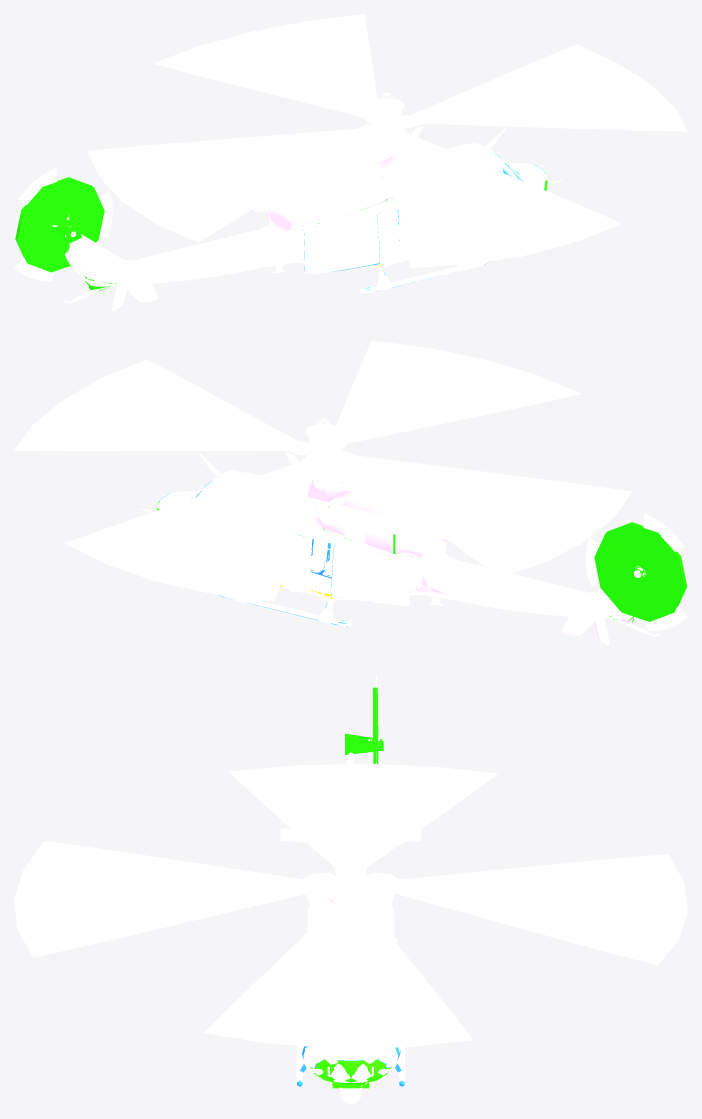
3 views of the same model, one above another, from view 1: azimuth 30°, elevation 25°; view 2: azimuth 150°, elevation 25°; view 3: azimuth 270°, elevation 25° (orthographic). The views are drawn at different scales.
Parts seen in each view (by area): view 1: Heli6_8, Heli6_3, Heli6_2, UH1Y_TailEngine_Col_104, Heli6_6, UH1Y_Col, Heli6_4, Heli6_7; view 2: Heli6_8, Heli6_3, Heli6_2, UH1Y_TailEngine_Col_104, UH1Y_Col, Heli6_6, Heli6_4, Heli6_7; view 3: Heli6_8, Heli6_3, Heli6_2, UH1Y_Col_1, UH1Y_TailEngine_Col_104.
Part boxes in pixels (x1,y1,x2,y2): Heli6_8: (14,14,687,280); Heli6_3: (28,32,651,293); Heli6_2: (64,127,562,311); UH1Y_TailEngine_Col_104: (15,177,116,291); Heli6_6: (79,171,401,281); UH1Y_Col: (254,145,397,260); Heli6_4: (311,144,521,254); Heli6_7: (376,207,405,246); Heli6_8: (14,340,687,630); Heli6_3: (63,361,672,629); Heli6_2: (141,453,659,645); UH1Y_TailEngine_Col_104: (594,522,687,624); UH1Y_Col: (307,472,451,598); Heli6_6: (301,498,613,613); Heli6_4: (192,471,402,585); Heli6_7: (289,536,334,577); Heli6_8: (14,685,687,1048); Heli6_3: (16,675,685,1089); Heli6_2: (280,752,421,1082); UH1Y_Col_1: (311,1059,390,1088); UH1Y_TailEngine_Col_104: (345,687,383,764).
Size of the model in its own units: 17.63 by 4.71 by 14.67.
